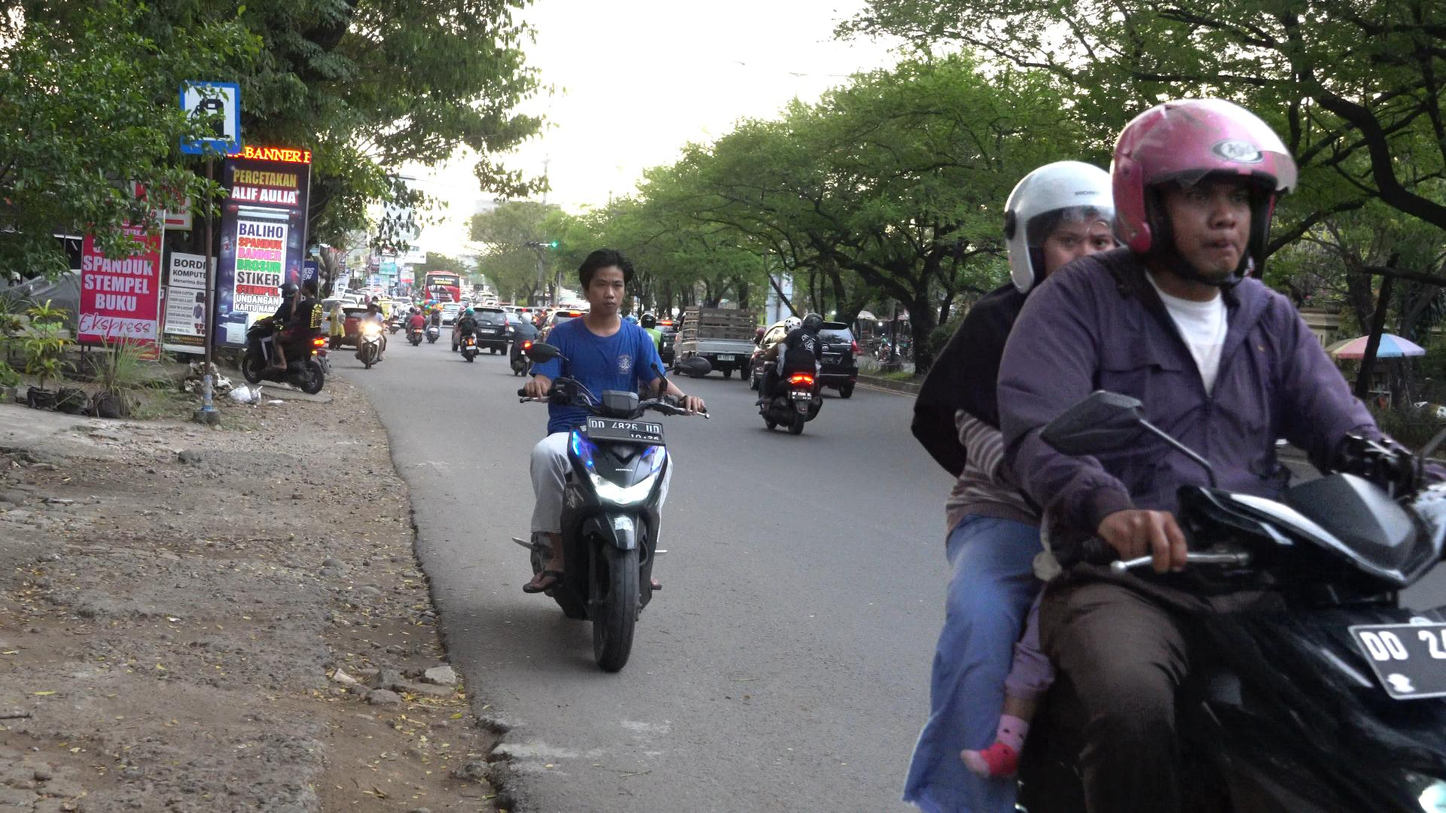number-plate: (585, 413, 667, 448)
